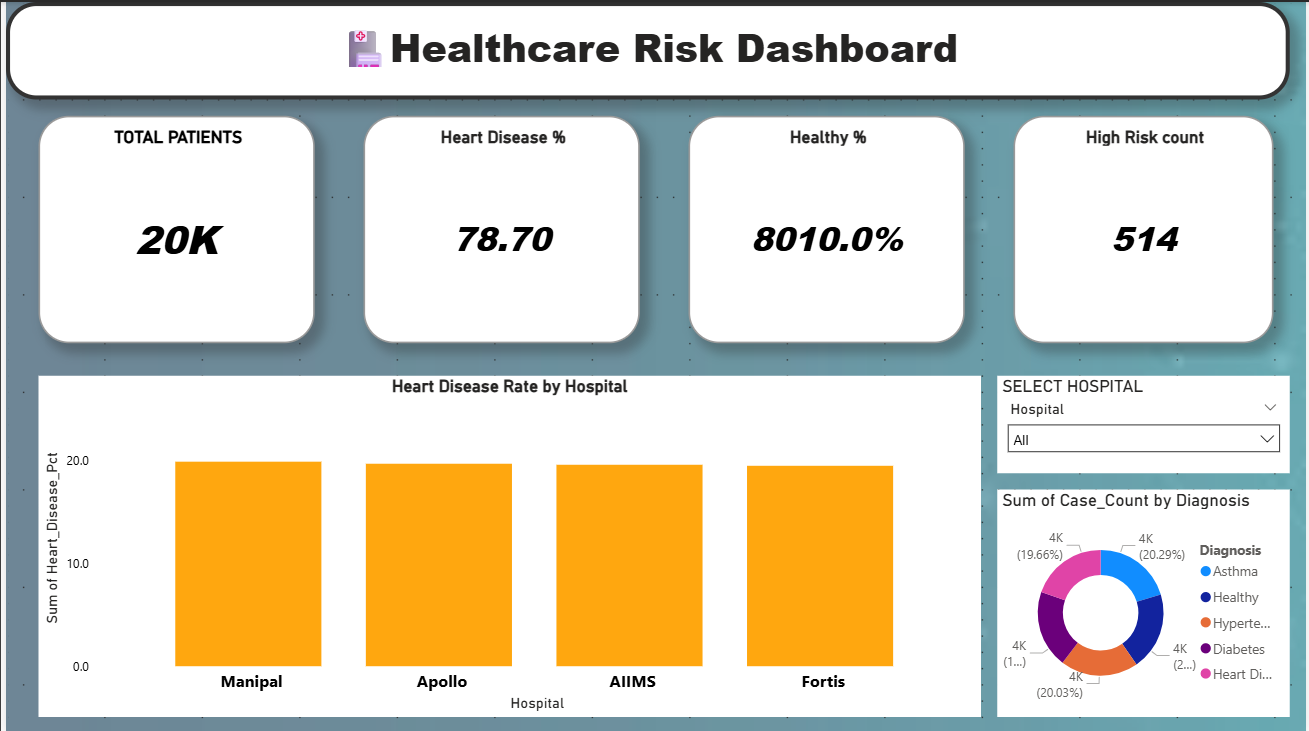

This screenshot's page, from the dashboard's own definition file:
{"tool":"powerbi","page":{"name":"EXECUTIVE SUMMARY","canvas":[1280,720],"ordinal":0},"visuals":[{"type":"textbox","box":[0,0,1264,96],"z":0},{"type":"card","title":"TOTAL PATIENTS","fields":{"Values":["Sum(hospital_performance.Total_Patients)"]},"box":[32,112,272,224],"z":1000},{"type":"card","title":"Heart Disease %","fields":{"Values":["Sum(hospital_performance.Heart_Disease_Pct)"]},"box":[352,112,272,224],"z":2000},{"type":"card","title":"Healthy %","fields":{"Values":["Sum(hospital_performance.Healthy_Pct)"]},"box":[672,112,272,224],"z":3000},{"type":"card","title":"High Risk count","fields":{"Values":["Sum(high_risk_patients.High_Risk_Count)"]},"box":[992,112,256,224],"z":4000},{"type":"clusteredColumnChart","title":"Heart Disease Rate by Hospital","fields":{"Category":["hospital_performance.Hospital"],"Y":["Sum(hospital_performance.Heart_Disease_Pct)"]},"box":[32,368,928,336],"z":5000},{"type":"slicer","title":"SELECT HOSPITAL","fields":{"Values":["hospital_performance.Hospital"]},"box":[976,368,288,96],"z":6000},{"type":"donutChart","fields":{"Category":["monthly_trends.Diagnosis"],"Y":["Sum(monthly_trends.Case_Count)"]},"box":[976,480,288,224],"z":7000}]}

Visuals, with their boxes in screenshot pixels (x1, y1, x2, y2), scaled from the page's 1280x720 canvas onto the 1309x731 screenshot:
textbox: left=0, top=0, right=1293, bottom=97
"TOTAL PATIENTS" card: left=33, top=114, right=311, bottom=341
"Heart Disease %" card: left=360, top=114, right=638, bottom=341
"Healthy %" card: left=687, top=114, right=965, bottom=341
"High Risk count" card: left=1014, top=114, right=1276, bottom=341
"Heart Disease Rate by Hospital" clusteredColumnChart: left=33, top=374, right=982, bottom=715
"SELECT HOSPITAL" slicer: left=998, top=374, right=1293, bottom=471
donutChart - monthly_trends.Diagnosis x Sum(monthly_trends.Case_Count): left=998, top=487, right=1293, bottom=715
